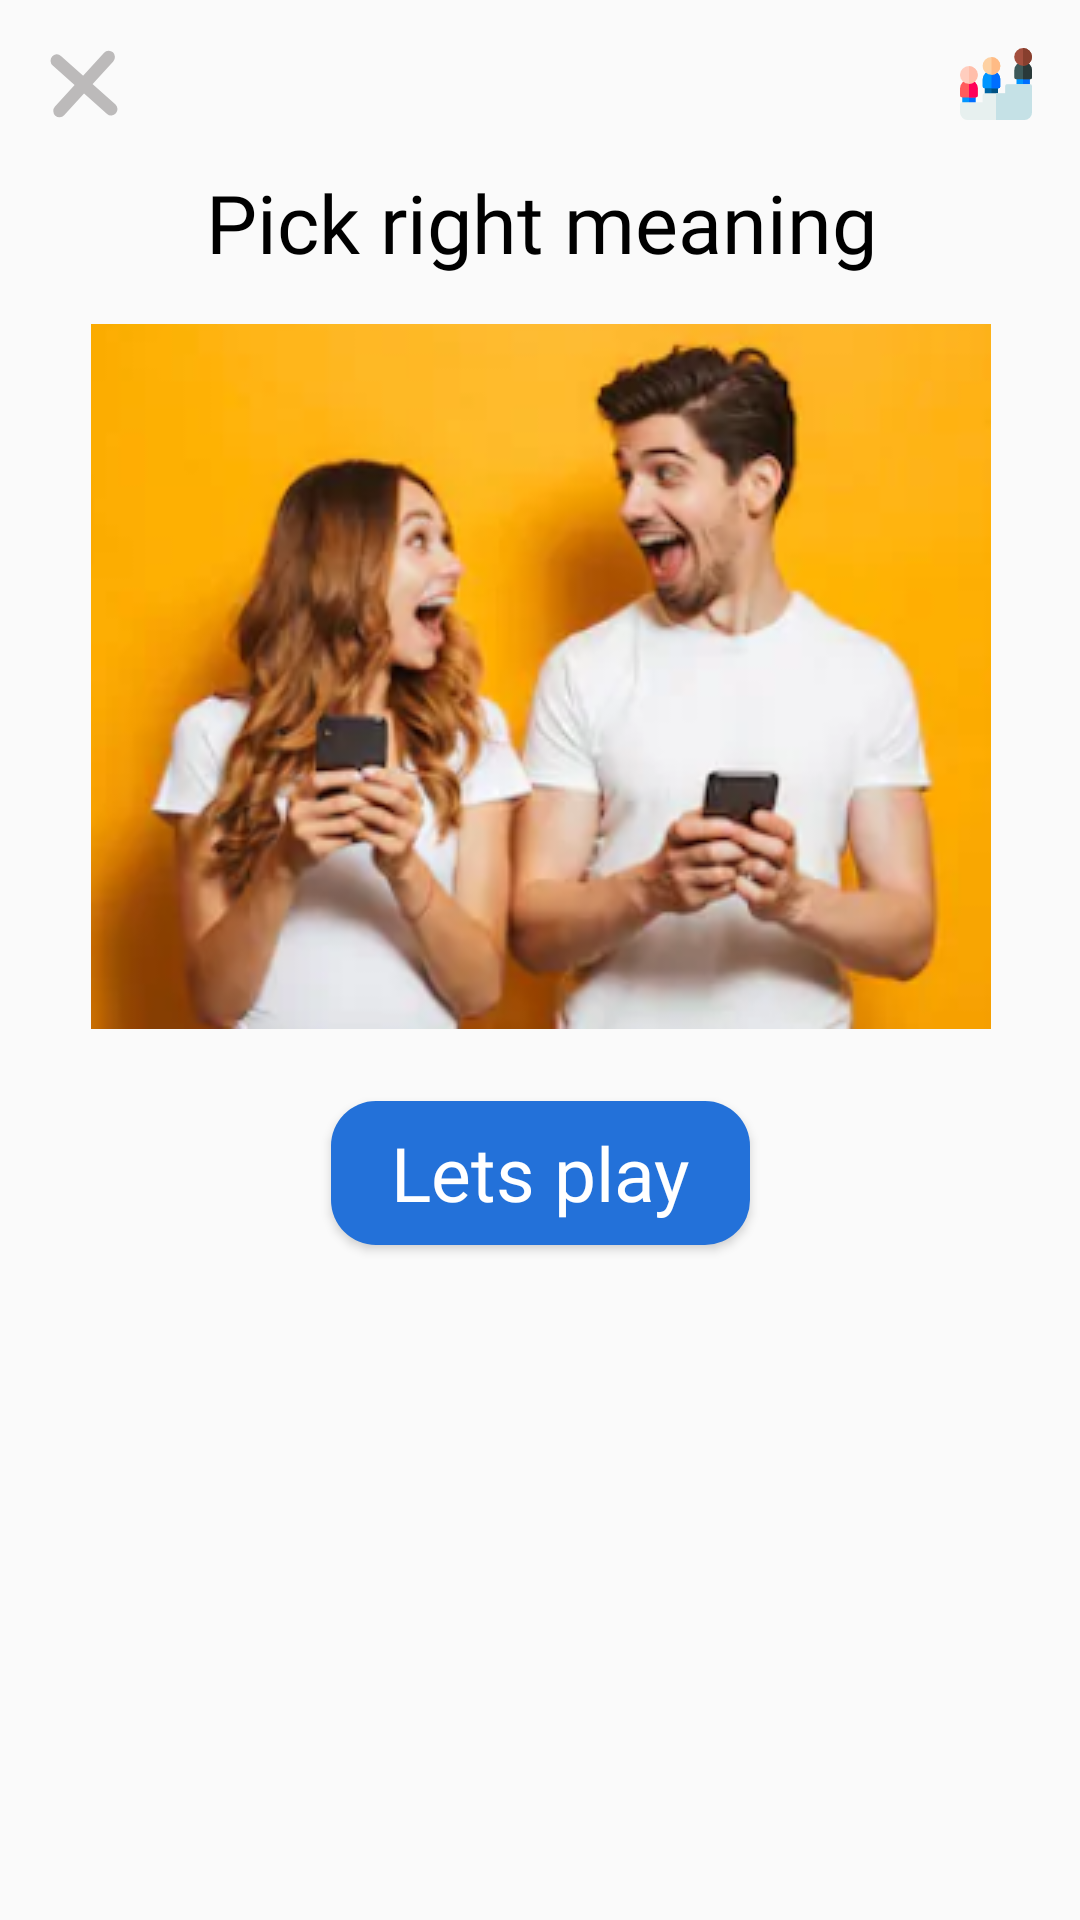

Icons on this 1080px x 1920px Android screen, each with the point to tap as (x,y):
cancel: (83,84)
leaderboard: (996,84)
